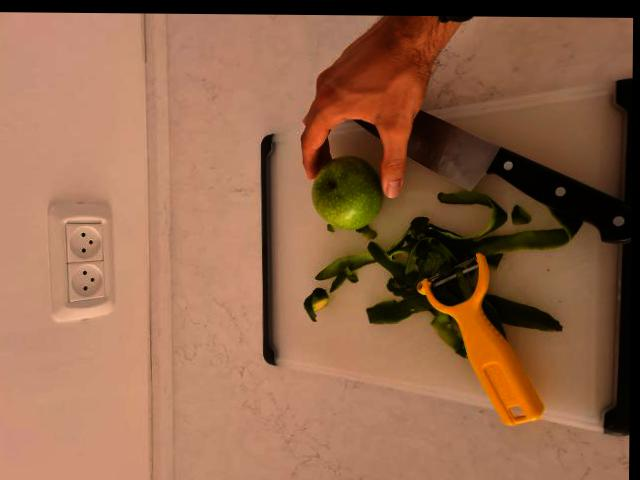apple: (309, 156, 385, 233)
